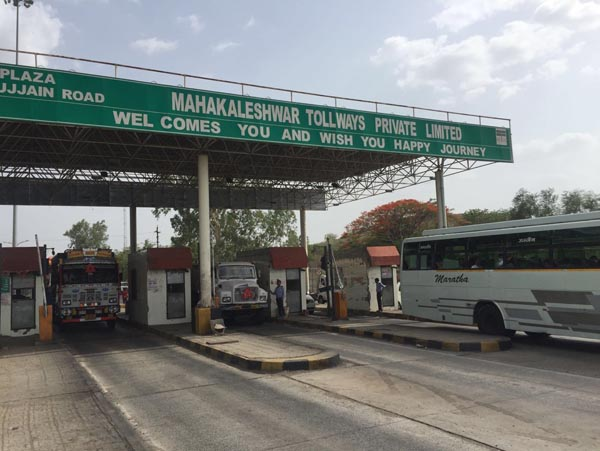toll plaza: (5, 40, 400, 338)
